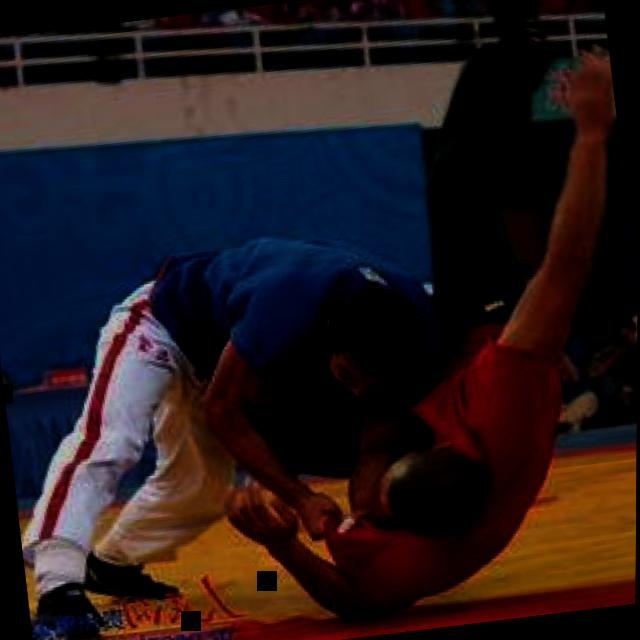Fall-Detected: (321, 0, 640, 596)
